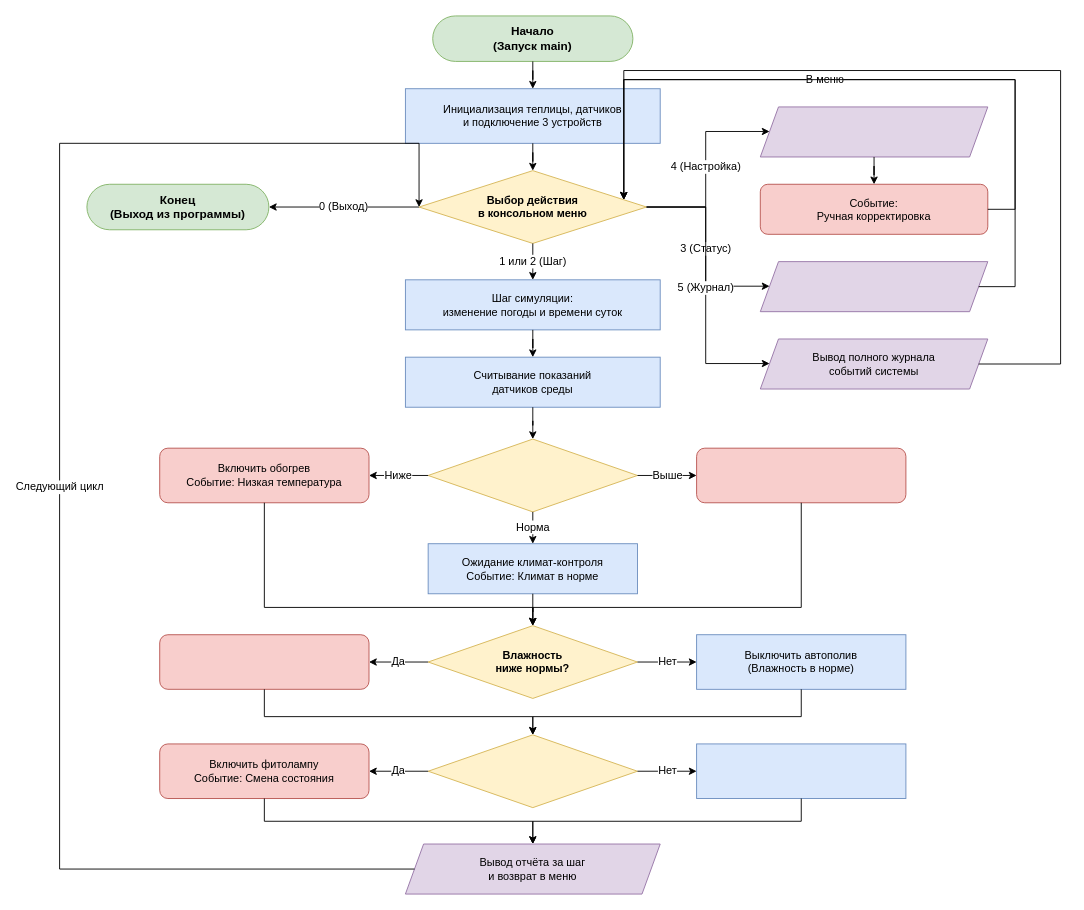
Image size: 1084x910. Some labels were removed from this diagram. Here are the shapes that lost their labels. From the top down, the centre of each, then its label:
the point at 873,131: Ввод целевой температуры и влажности
the point at 873,286: Вывод показаний датчиков и статуса устройств
the point at 532,475: Температура в норме?
the point at 801,475: Включить охлаждение Событие: Перегрев
the point at 264,661: Включить автополив Событие: Низкая влажность
the point at 532,771: Освещённость ниже нормы?
the point at 801,771: Выключить фитолампу (Света достаточно)
